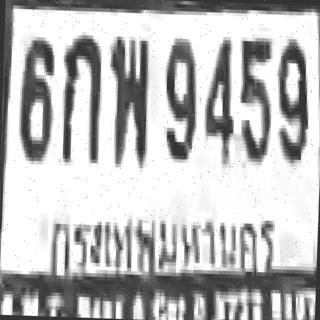A01: (59, 31, 102, 160)
A30: (105, 32, 149, 164)
N04: (201, 32, 235, 164)
N05: (236, 35, 272, 160)
N06: (16, 33, 53, 158)
N09: (273, 35, 309, 160), (162, 35, 196, 159)
P04: (44, 198, 278, 284)
